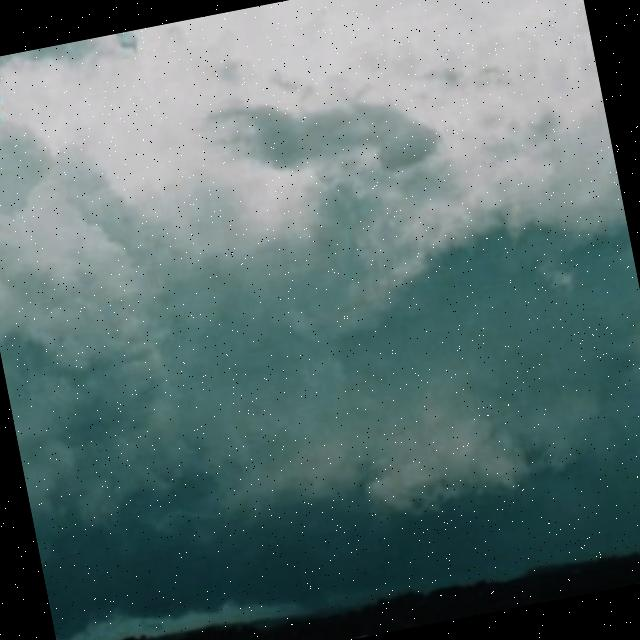Cb: (1, 1, 640, 553)
